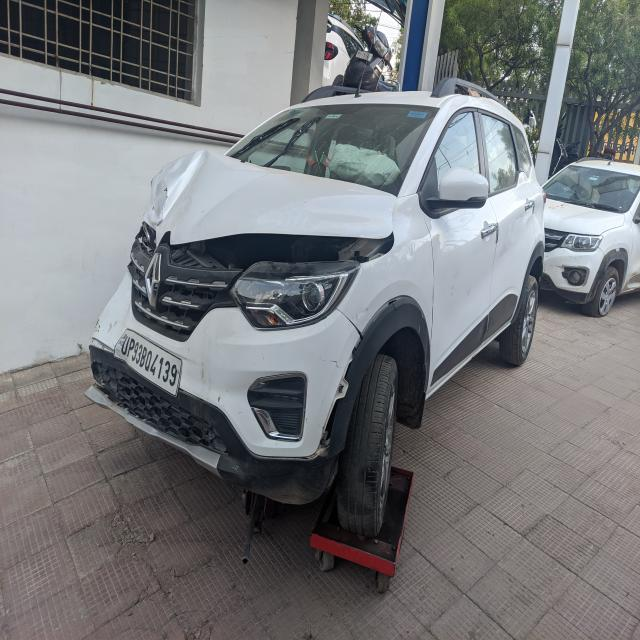damage: (141, 152, 239, 246), (87, 251, 139, 411), (309, 340, 369, 457)
